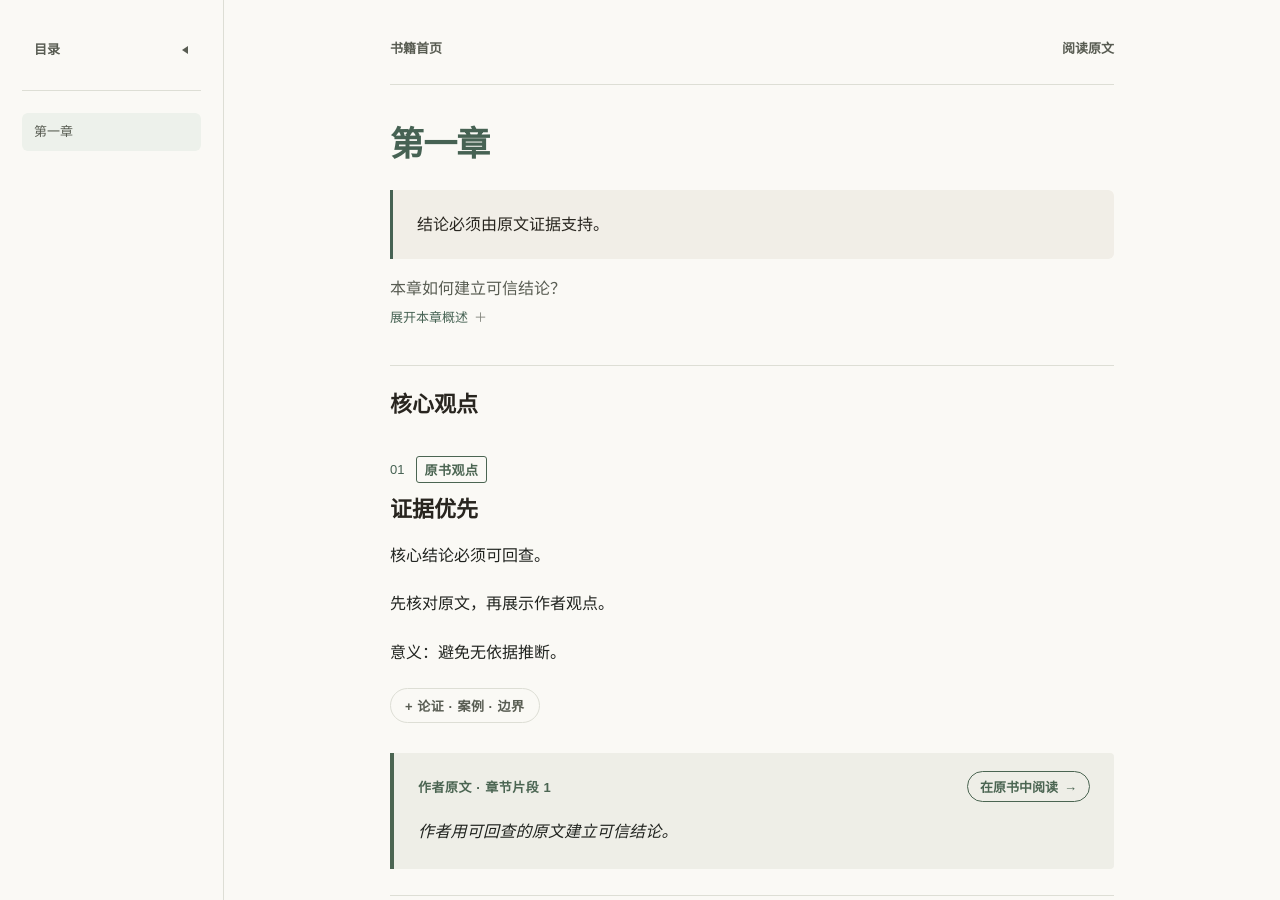
Scenario: ChapterWorkspace › keeps analysis visible while the source panel closes and restores its last target
Click the button "阅读原文" at (1088, 47), box [1062,28,1114,66]
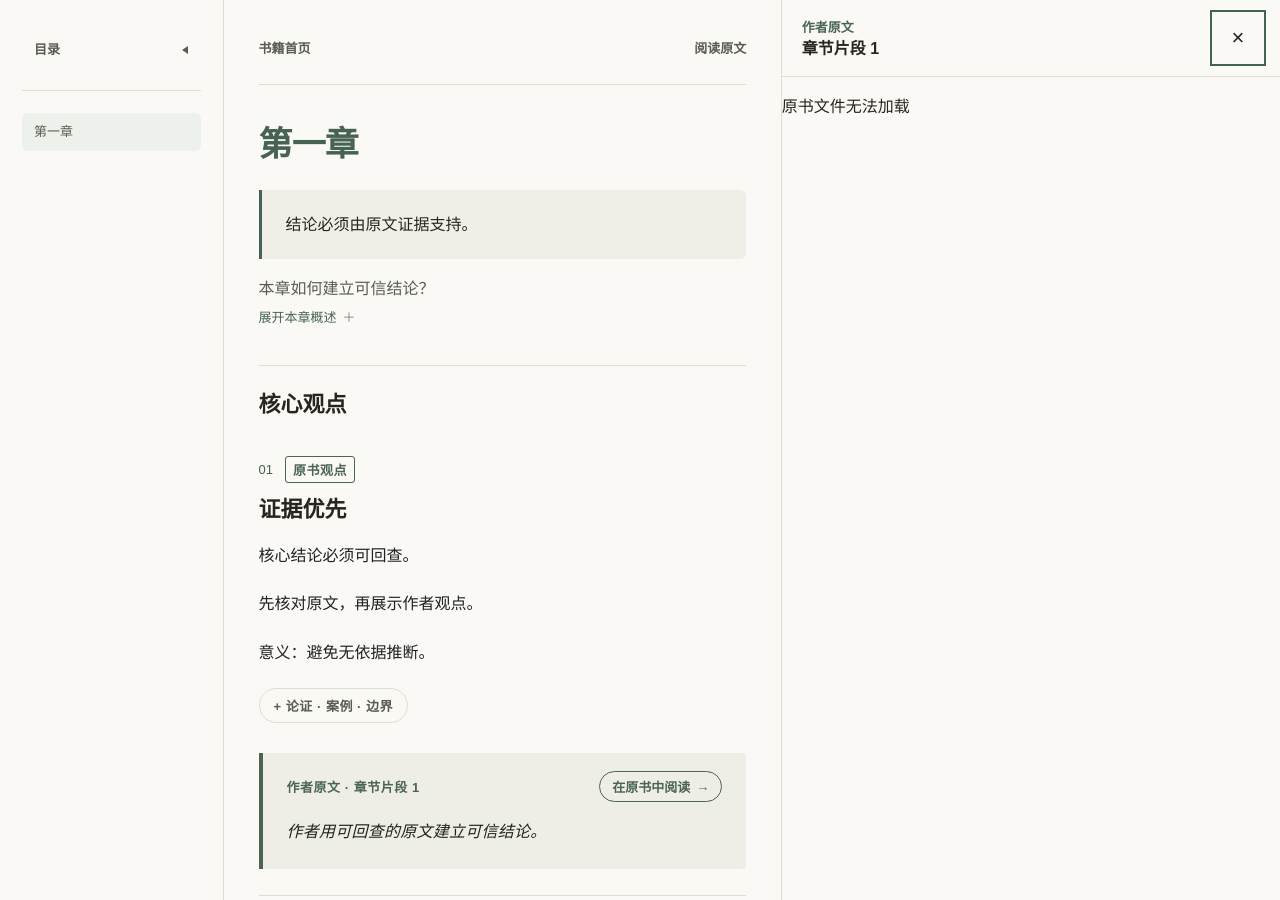
Now the element named "原书阅读器" shows "章节片段 1", box [802,40,879,57]
Press Escape
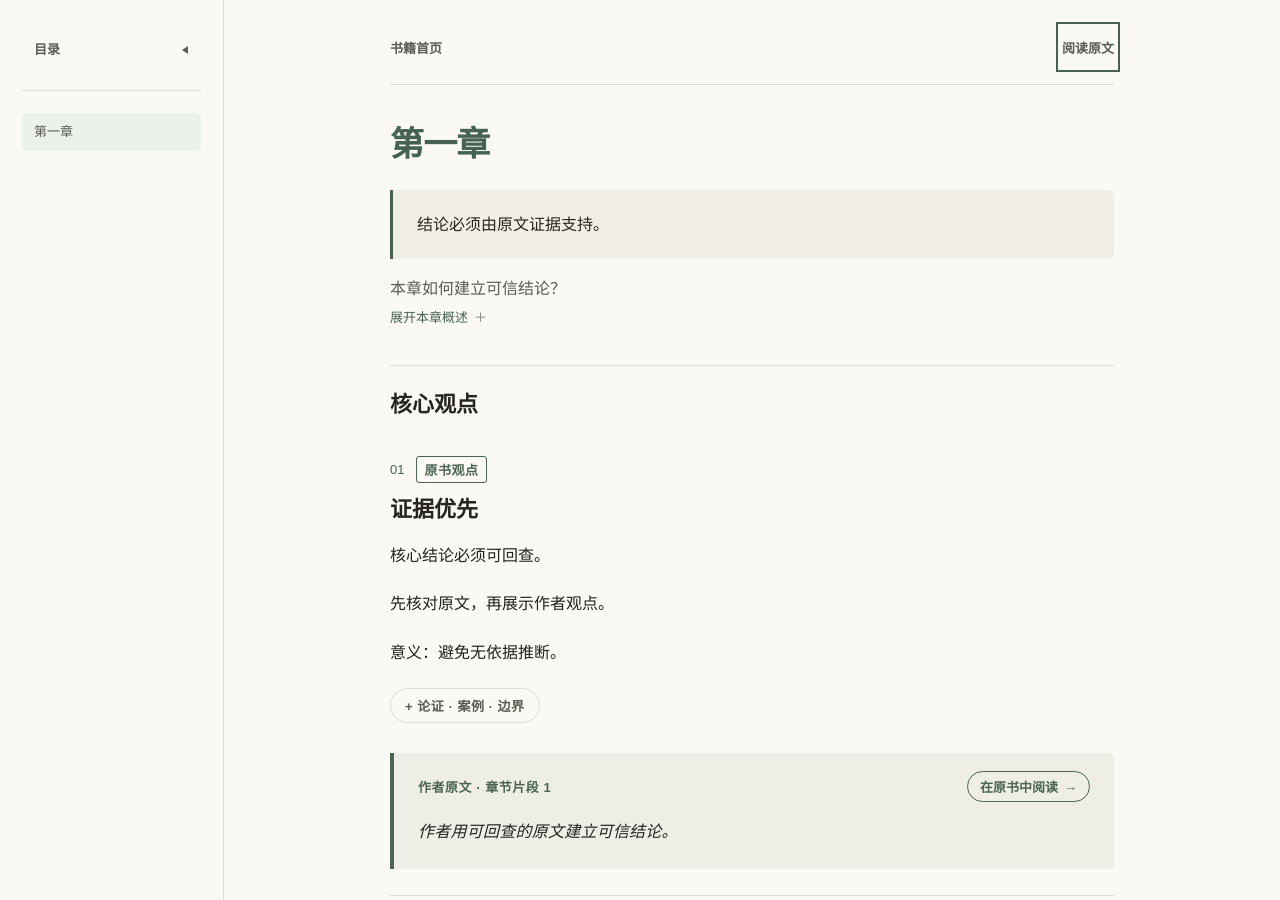
Now the field labelled "原书阅读器" is gone
Click the button "阅读原文" at (1088, 47), box [1062,28,1114,66]
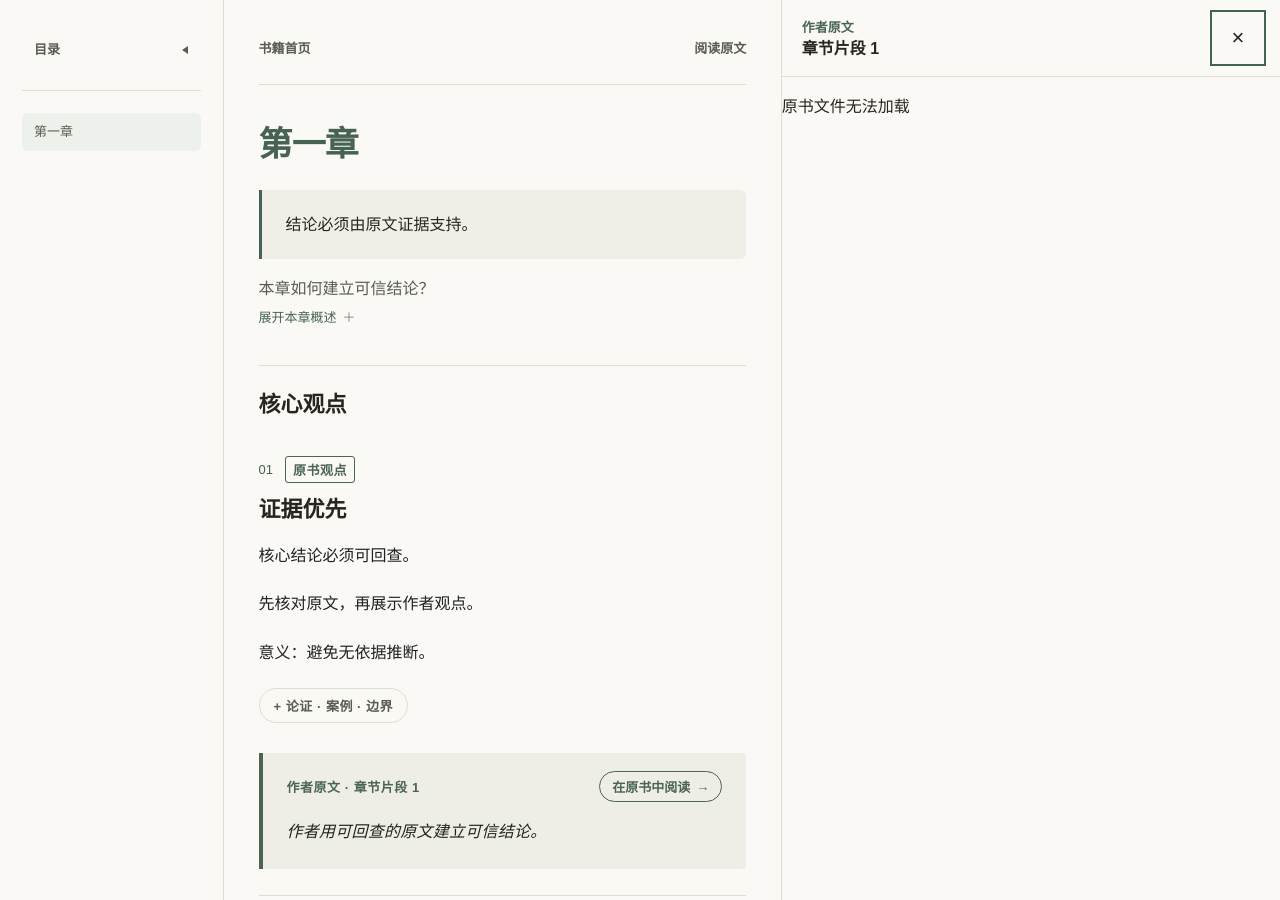
Now the element named "原书阅读器" shows "章节片段 1", box [802,40,879,57]
